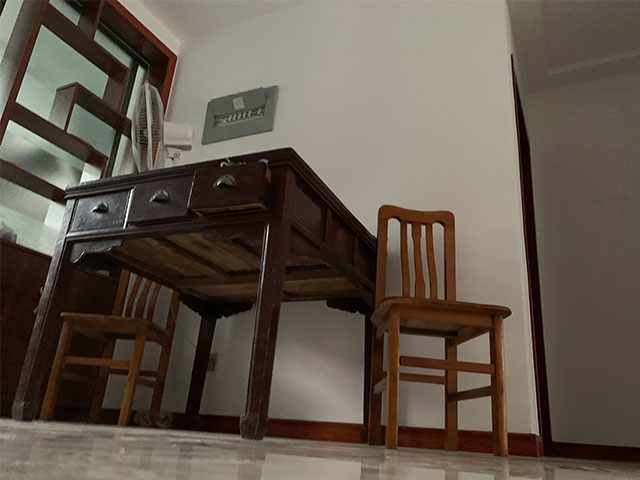cabinet: (1, 236, 125, 421)
stool: (366, 202, 513, 458), (38, 267, 181, 429)
table: (10, 143, 388, 448)
